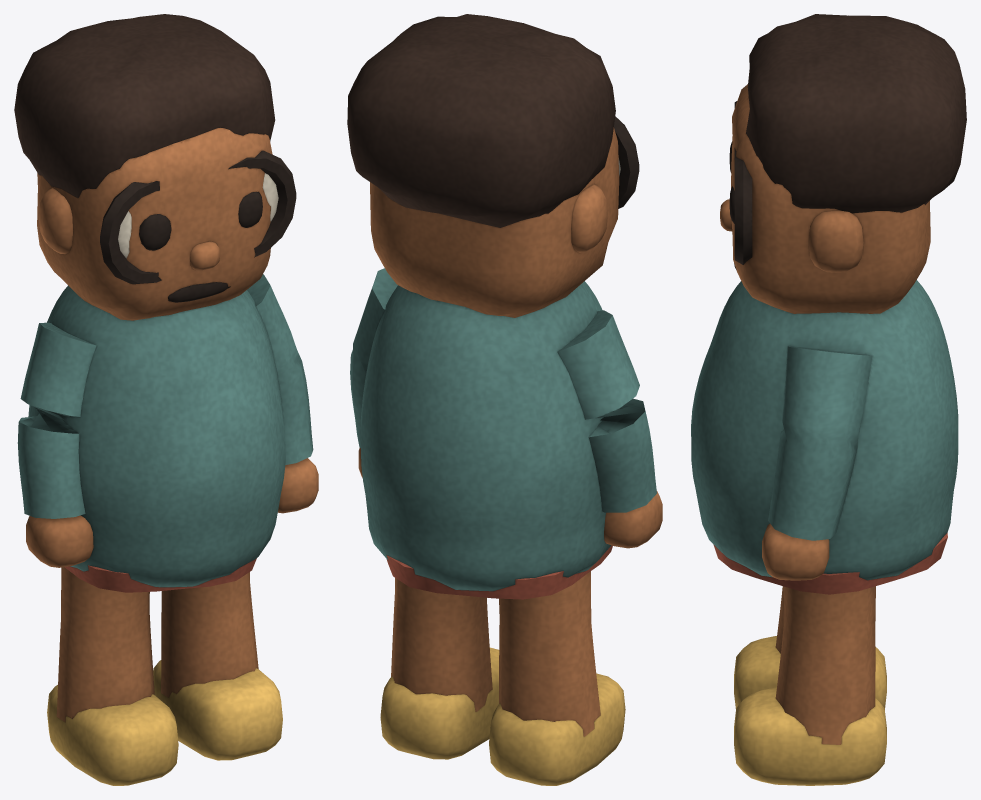
File: d1_chuck.glb
The picture shows the model from 3 angles, left to right: view 1: azimuth 30°, elevation 25°; view 2: azimuth 150°, elevation 25°; view 3: azimuth 270°, elevation 25°; orthographic projection. The views are drawn at different scales.
Visible parts, largest first — view 1: Chuck; view 2: Chuck; view 3: Chuck.
Part boxes in pixels (x1=…): Chuck: x1=14, y1=14, x2=318, y2=785; Chuck: x1=347, y1=14, x2=662, y2=785; Chuck: x1=691, y1=14, x2=966, y2=785.
Bounding box in the file's own units: 0.5622 × 1.35 × 0.476.
1 material, 1 textured.
